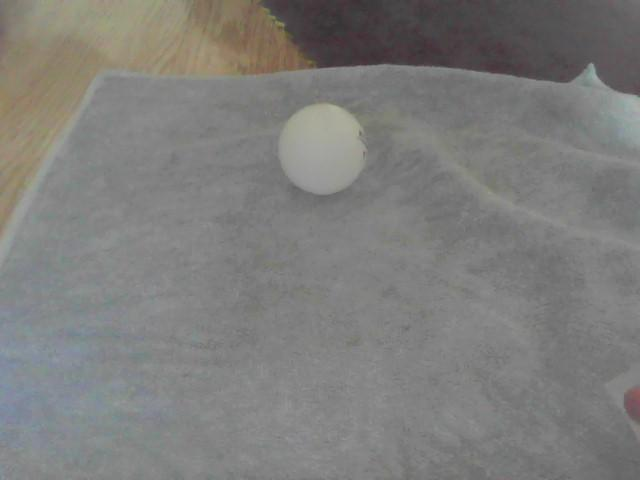ball: (279, 104, 367, 195)
